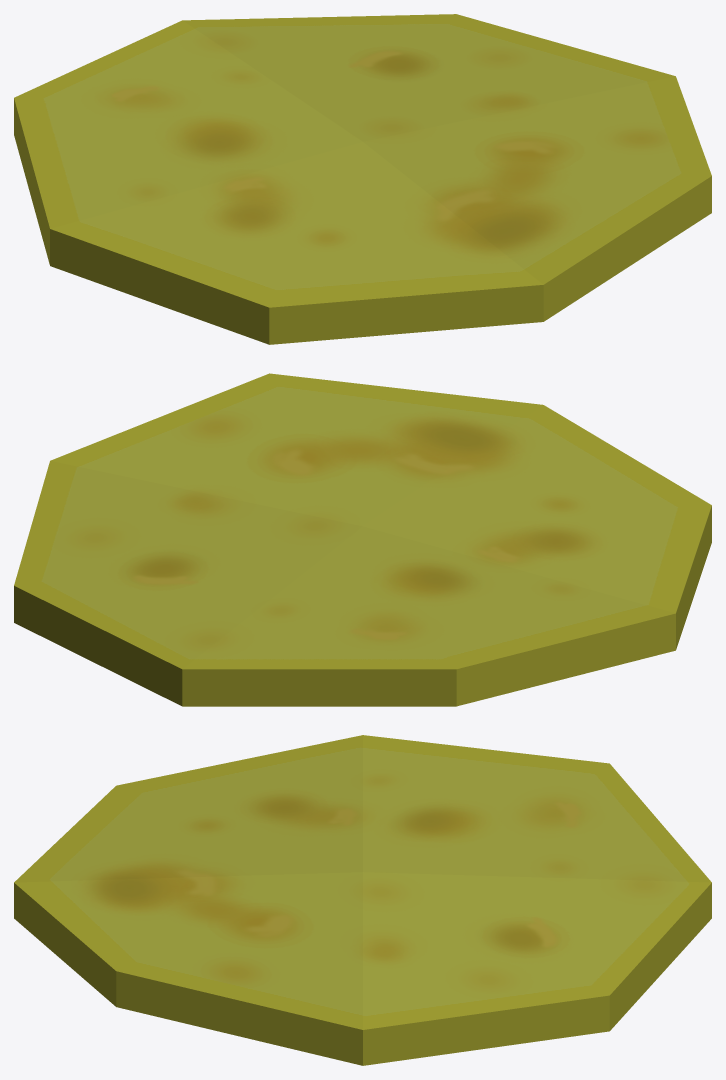
Rendered from Taco_Huangua.fbx.
3 views of the same model, one above another, from view 1: azimuth 30°, elevation 25°; view 2: azimuth 150°, elevation 25°; view 3: azimuth 270°, elevation 25° (orthographic). The views are drawn at different scales.
Visible parts, largest first — view 1: Cylinder; view 2: Cylinder; view 3: Cylinder.
Part boxes in pixels (<box>): Cylinder: <box>14,14,711,344</box>; Cylinder: <box>14,373,711,706</box>; Cylinder: <box>14,735,711,1065</box>.
Size of the model in its own units: 200 by 19.04 by 200.
1 material, 1 textured.
